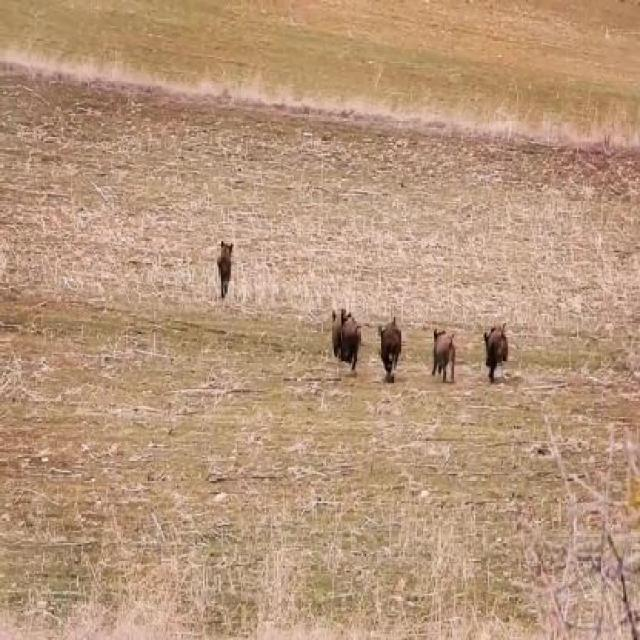pig: (200, 223, 245, 314), (370, 322, 412, 401), (477, 314, 516, 393), (321, 303, 364, 365), (431, 306, 464, 380)
